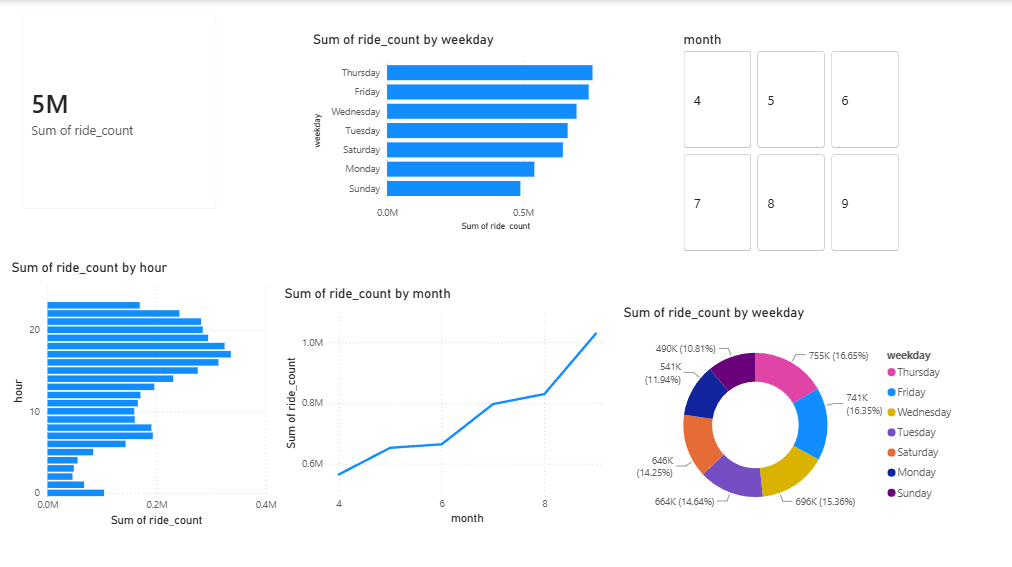

Layout of this report page (visuals, bound fields, positions):
{"tool":"powerbi","page":{"name":"Page 1","canvas":[1280,720],"ordinal":0},"visuals":[{"type":"cardVisual","fields":{"Data":["Sum(uber_hourly_demand.ride_count)"]},"box":[10,0,280,280],"z":0},{"type":"clusteredBarChart","fields":{"Category":["uber_hourly_demand.hour"],"Y":["Sum(uber_hourly_demand.ride_count)"]},"box":[9.4,326.9,343.9,340.2],"z":1},{"type":"clusteredBarChart","fields":{"Category":["uber_hourly_demand.weekday"],"Y":["Sum(uber_hourly_demand.ride_count)"]},"box":[389.3,39.7,391.2,255.1],"z":2},{"type":"lineChart","fields":{"Category":["uber_hourly_demand.month"],"Y":["Sum(uber_hourly_demand.ride_count)"]},"box":[353.4,359.1,412,306.1],"z":3},{"type":"advancedSlicerVisual","fields":{"Values":["uber_hourly_demand.month"]},"box":[856.1,39.7,283.5,281.6],"z":4},{"type":"donutChart","fields":{"Category":["uber_hourly_demand.weekday"],"Y":["Sum(uber_hourly_demand.ride_count)"]},"box":[780.5,383.6,432.8,283.5],"z":5}]}

Visuals, with their boxes in screenshot pixels (x1, y1, x2, y2), scaled from the page's 1280x720 canvas onto the 1012x567 screenshot:
cardVisual - Sum(uber_hourly_demand.ride_count): x1=8 y1=0 x2=229 y2=220
clusteredBarChart - uber_hourly_demand.hour x Sum(uber_hourly_demand.ride_count): x1=7 y1=257 x2=279 y2=525
clusteredBarChart - uber_hourly_demand.weekday x Sum(uber_hourly_demand.ride_count): x1=308 y1=31 x2=617 y2=232
lineChart - uber_hourly_demand.month x Sum(uber_hourly_demand.ride_count): x1=279 y1=283 x2=605 y2=524
advancedSlicerVisual - uber_hourly_demand.month: x1=677 y1=31 x2=901 y2=253
donutChart - uber_hourly_demand.weekday x Sum(uber_hourly_demand.ride_count): x1=617 y1=302 x2=959 y2=525
